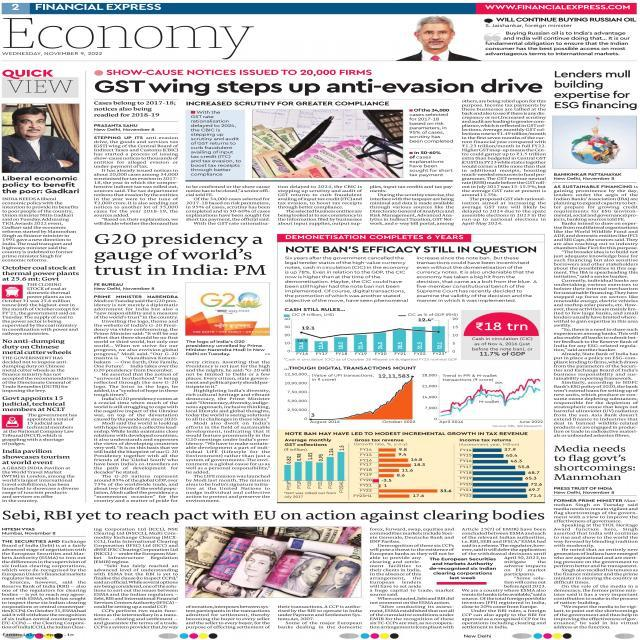Article: (90, 68, 550, 228), (1, 508, 548, 630), (87, 230, 275, 505), (551, 66, 640, 438), (282, 226, 544, 306), (548, 442, 640, 628), (0, 102, 80, 267), (0, 263, 81, 337), (0, 336, 80, 396), (0, 445, 81, 504), (0, 393, 78, 448)
Body: (552, 185, 638, 438), (92, 294, 180, 504), (185, 360, 272, 503), (552, 499, 640, 629), (460, 98, 548, 226), (92, 527, 180, 630), (92, 135, 180, 226), (1, 539, 88, 630), (283, 256, 410, 304), (416, 256, 538, 304), (1, 195, 81, 262), (0, 282, 81, 336), (276, 184, 364, 227), (368, 184, 456, 226), (368, 588, 456, 630), (189, 110, 243, 178), (185, 184, 272, 226), (460, 589, 547, 629), (0, 356, 80, 394), (1, 466, 81, 504), (0, 412, 78, 447), (460, 526, 547, 556), (185, 604, 272, 630), (277, 604, 364, 630), (368, 556, 424, 588), (408, 108, 455, 144), (368, 527, 456, 543), (503, 556, 547, 588), (408, 150, 454, 177), (369, 544, 456, 556)
Date: (1, 50, 106, 56)
Heading: (94, 78, 548, 98), (92, 232, 268, 277), (0, 508, 549, 522), (553, 68, 639, 110), (552, 444, 636, 482), (283, 244, 538, 254), (0, 175, 81, 195), (0, 264, 80, 282), (1, 338, 73, 355), (0, 395, 67, 412), (0, 449, 71, 465)
Highlights: (481, 15, 638, 58), (462, 310, 540, 360), (428, 556, 498, 582), (94, 100, 178, 118), (185, 339, 266, 356), (284, 431, 530, 436), (186, 101, 390, 107), (282, 366, 419, 370), (283, 307, 347, 312)
Image: (186, 528, 362, 598), (252, 110, 404, 178), (282, 313, 458, 362), (284, 372, 416, 423), (422, 373, 544, 424), (1, 104, 80, 172), (353, 447, 452, 498), (186, 282, 270, 335), (552, 115, 636, 168), (457, 448, 543, 498), (393, 16, 480, 62), (284, 446, 346, 494)
Name: (0, 17, 256, 50), (34, 3, 162, 11)
